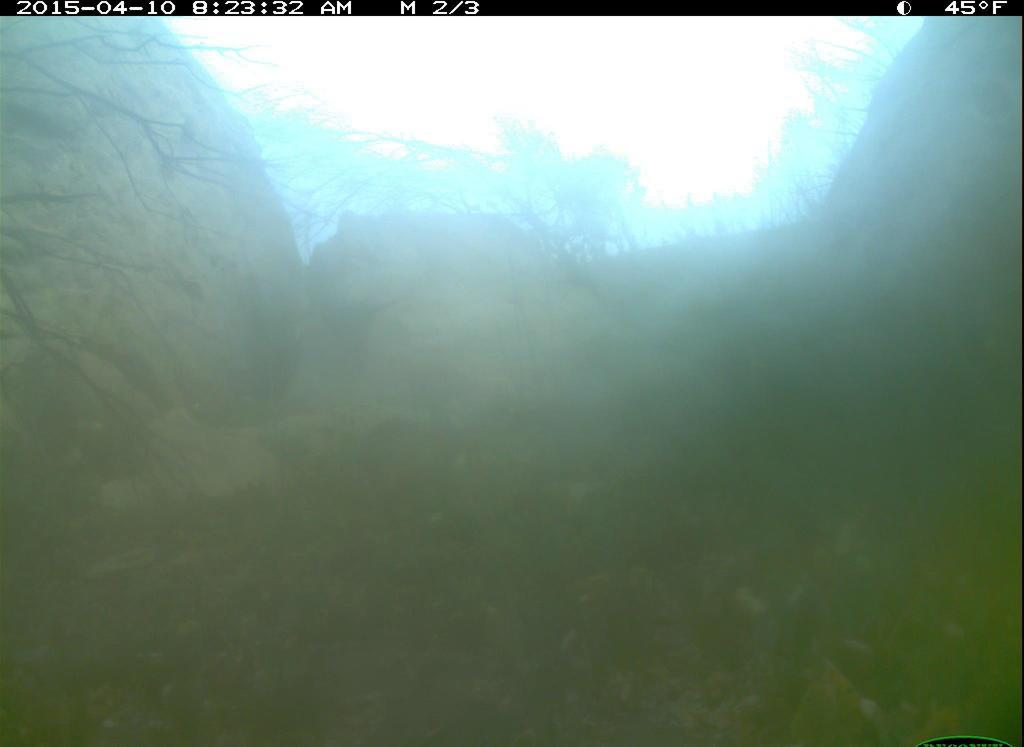rabbit: (356, 409, 466, 484)
